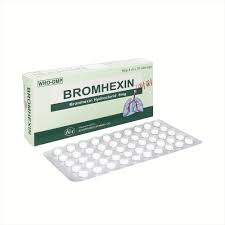Bromhexin: (61, 80, 133, 96)
